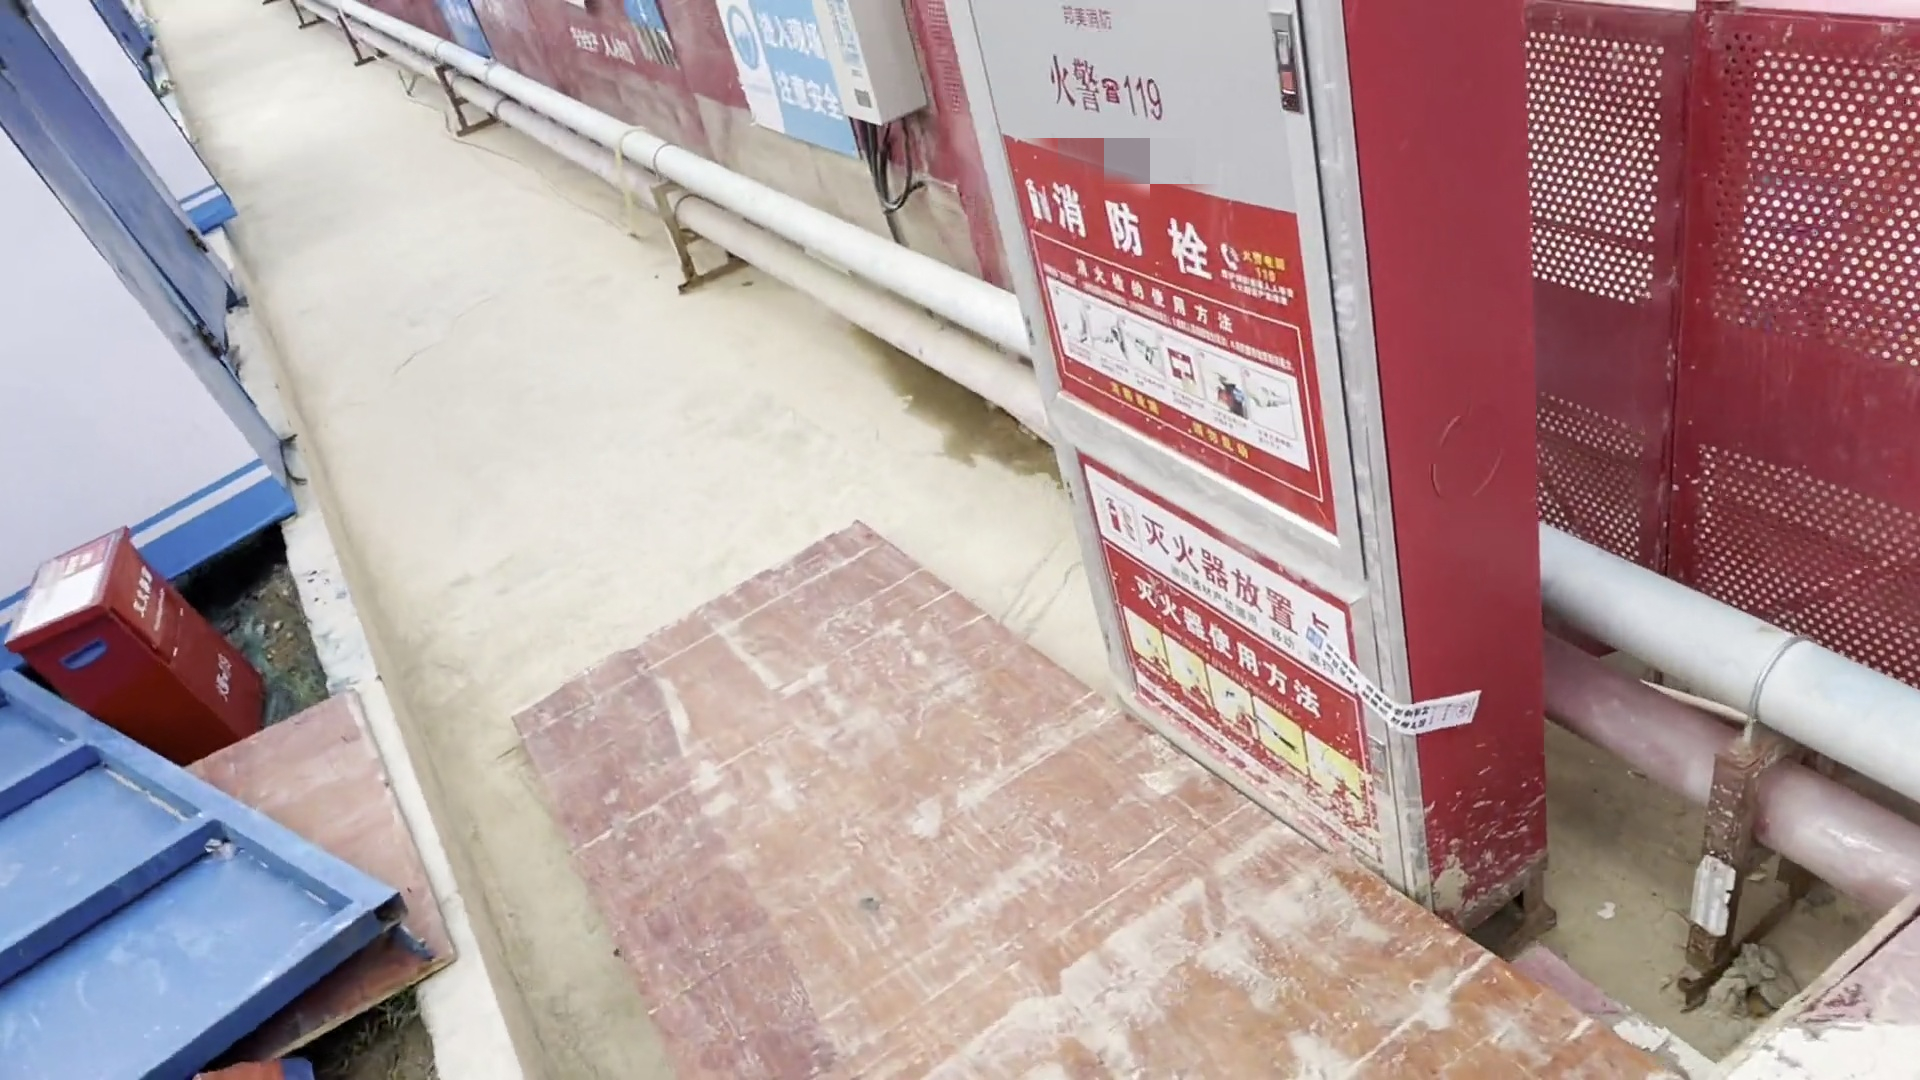board: (506, 575, 1133, 1030)
fence: (1548, 5, 1908, 645)
slogan: (713, 1, 866, 164)
